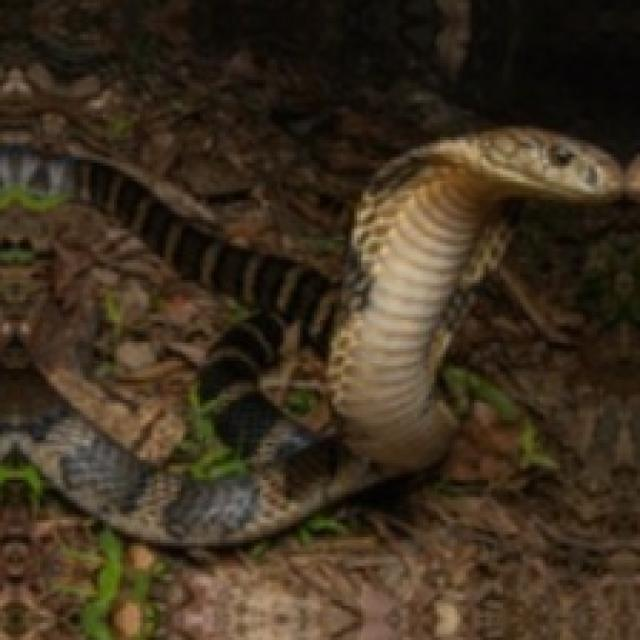king cobra: (0, 129, 637, 546)
